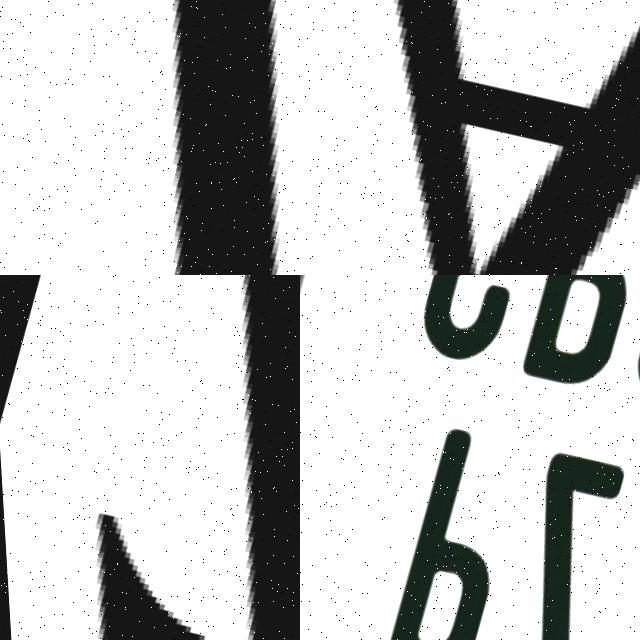7: (561, 477, 640, 640)
A: (300, 0, 640, 275)
B: (503, 275, 640, 407)
C: (399, 275, 571, 380)
D: (0, 0, 300, 275)
P: (366, 419, 542, 640)
T: (0, 275, 300, 640)
Z: (466, 453, 634, 640)
